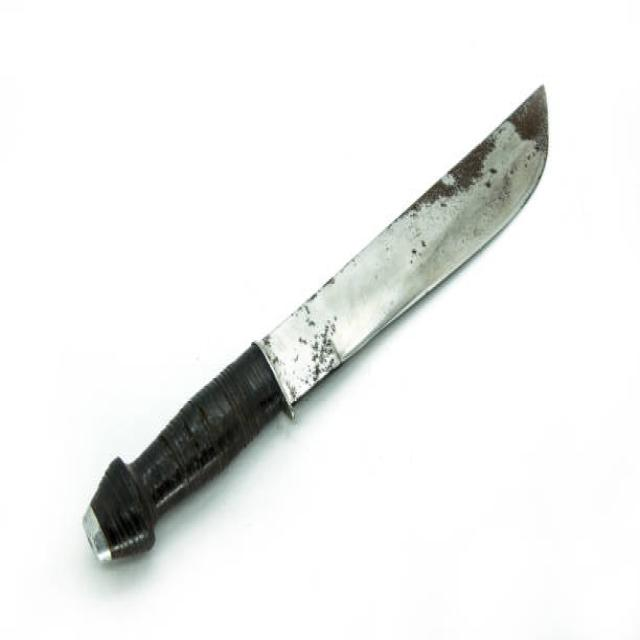knife: (77, 78, 560, 587)
